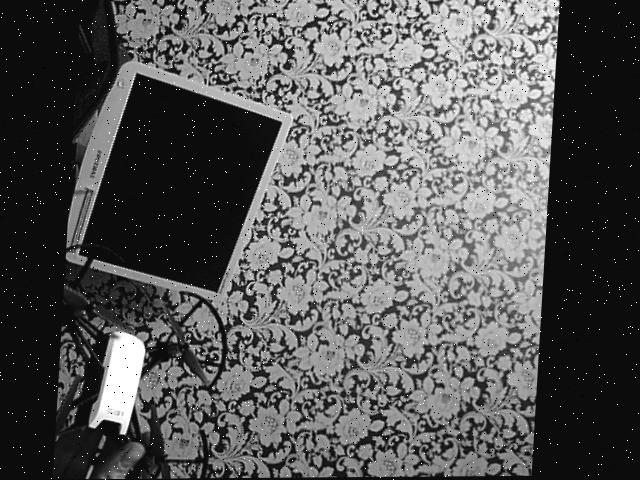drone: (58, 237, 245, 480)
